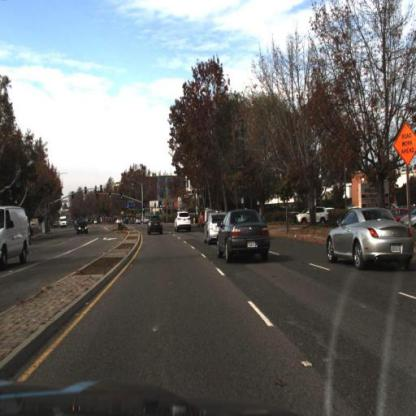car: (325, 206, 416, 272), (218, 205, 275, 262), (1, 206, 33, 274), (289, 199, 332, 232), (199, 204, 224, 255), (205, 211, 227, 247), (299, 204, 329, 227), (146, 211, 167, 238), (174, 208, 195, 234), (77, 220, 89, 237)
truck: (58, 214, 70, 230)
